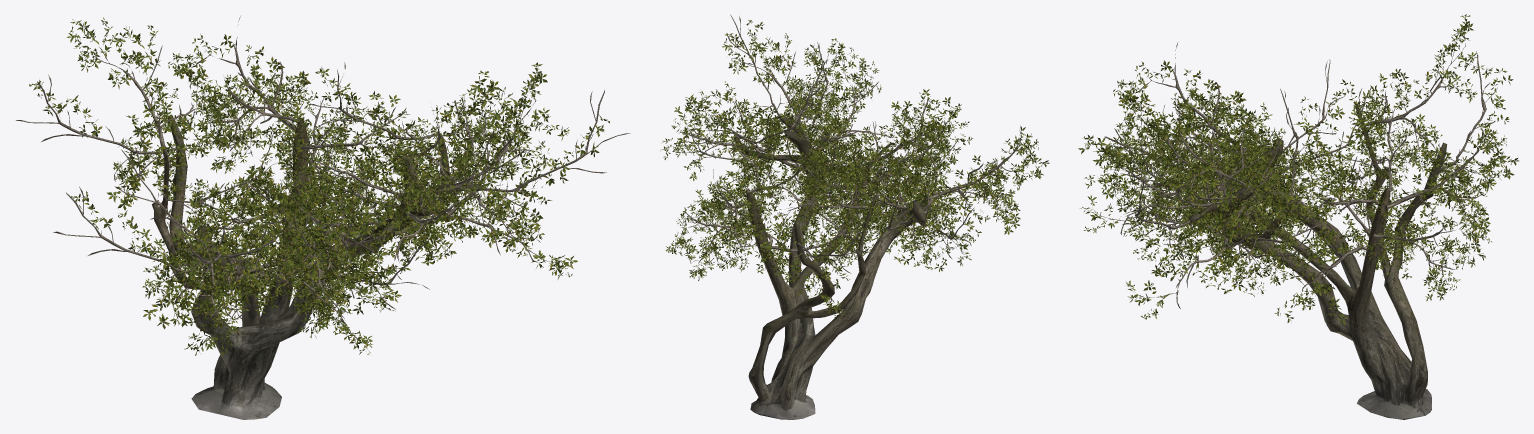
Rendered from arbol.glb.
3 renders of one model, left to right at view 1: azimuth 30°, elevation 25°; view 2: azimuth 150°, elevation 25°; view 3: azimuth 270°, elevation 25°, orthographic. The views are drawn at different scales.
Parts seen in each view (by area): view 1: island_tree_02_LOD0; view 2: island_tree_02_LOD0; view 3: island_tree_02_LOD0.
Part boxes in pixels (x1,y1,x2,y2): island_tree_02_LOD0: (16,16,630,419); island_tree_02_LOD0: (660,14,1049,419); island_tree_02_LOD0: (1078,14,1518,419).
Size of the model in its own units: 4.21 by 3.41 by 4.07.
Materials: 3 (3 with a texture image).
